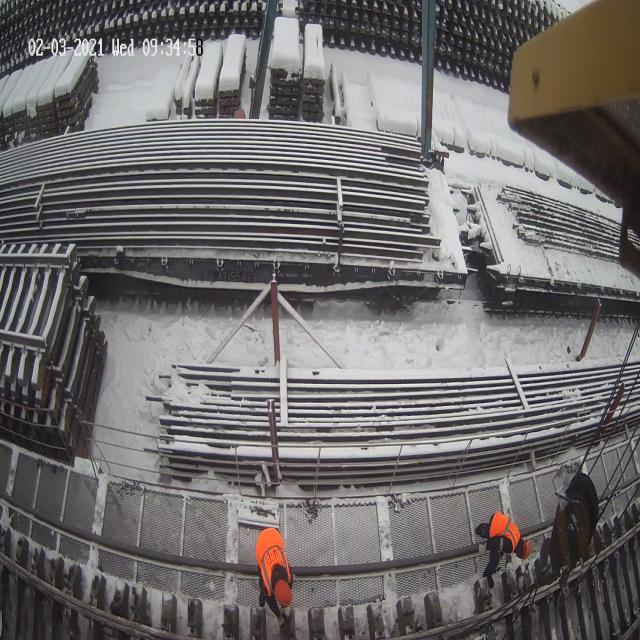Helmet: (256, 527, 284, 569), (274, 579, 292, 607)
Person: (474, 511, 531, 601), (255, 527, 294, 634)
